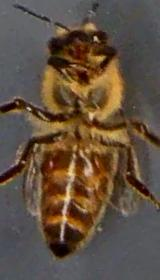varroa_mite: (33, 155, 65, 177)
